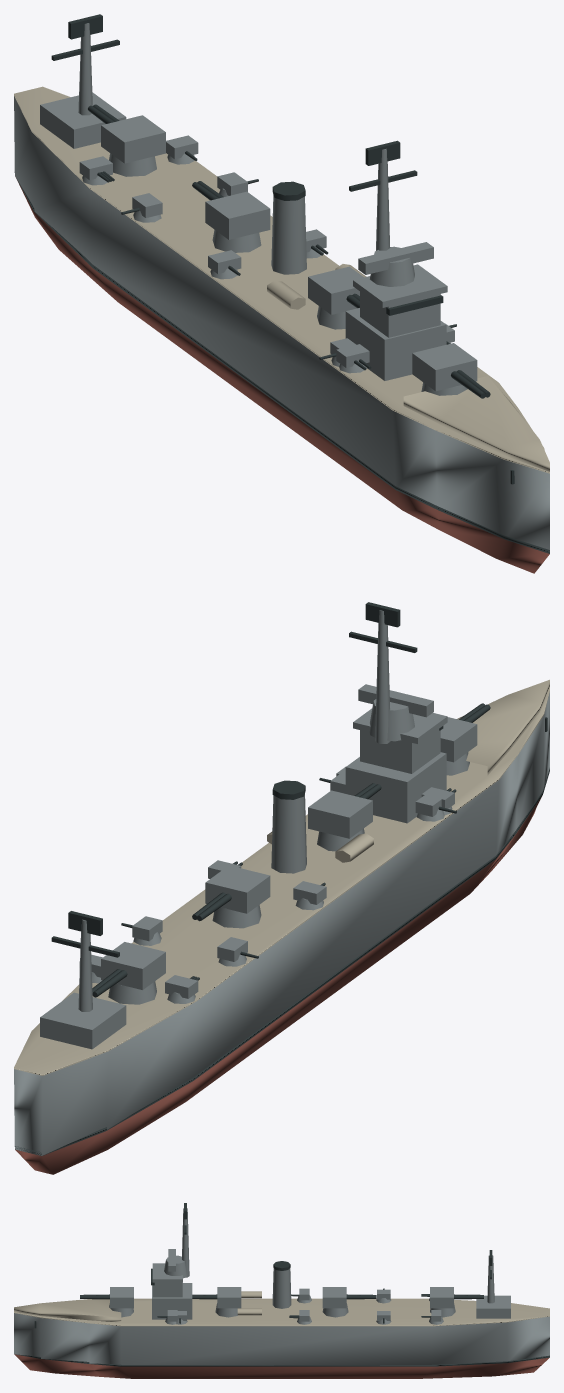
Rendered from admiral-hipper.glb.
The picture shows the model from 3 angles, top to bottom: view 1: azimuth 30°, elevation 25°; view 2: azimuth 150°, elevation 25°; view 3: azimuth 270°, elevation 25°; orthographic projection. The views are drawn at different scales.
Visible parts, largest first — view 1: Freeboard, Deck, UnderwaterHull, Forecastle, Bridge-Foundation, Funnel-0-Body, AftDeckhouse, Main-Casing-2, Main-Casing-3, Waterline, Main-Casing-0, Bridge-Command (+8 smaller); view 2: Freeboard, Deck, UnderwaterHull, Bridge-Foundation, Forecastle, AftDeckhouse, Funnel-0-Body, Main-Casing-1, Bridge-Command, Main-Casing-2, Waterline, Main-Casing-3 (+8 smaller); view 3: Freeboard, Deck, UnderwaterHull, Forecastle, Waterline, Bridge-Foundation, AftDeckhouse, Funnel-0-Body, Main-Casing-1, Main-Casing-2, Main-Casing-0, Main-Casing-3 (+5 smaller).
Part boxes in pixels (left/top/right/bottom): Freeboard: left=14, top=96, right=549, bottom=551; Deck: left=14, top=86, right=549, bottom=473; UnderwaterHull: left=15, top=176, right=549, bottom=573; Forecastle: left=403, top=376, right=549, bottom=471; Bridge-Foundation: left=345, top=308, right=446, bottom=380; Funnel-0-Body: left=271, top=195, right=306, bottom=274; AftDeckhouse: left=40, top=92, right=126, bottom=148; Main-Casing-2: left=205, top=191, right=270, bottom=239; Main-Casing-3: left=101, top=115, right=165, bottom=163; Waterline: left=14, top=172, right=549, bottom=553; Main-Casing-0: left=412, top=343, right=477, bottom=391; Bridge-Command: left=360, top=291, right=440, bottom=337; Freeboard: left=14, top=691, right=549, bottom=1155; Deck: left=14, top=689, right=549, bottom=1075; UnderwaterHull: left=15, top=796, right=541, bottom=1174; Bridge-Foundation: left=345, top=752, right=446, bottom=823; Forecastle: left=457, top=679, right=549, bottom=775; AftDeckhouse: left=40, top=992, right=126, bottom=1049; Funnel-0-Body: left=271, top=794, right=306, bottom=873; Main-Casing-1: left=308, top=790, right=372, bottom=838; Bridge-Command: left=360, top=729, right=440, bottom=773; Main-Casing-2: left=205, top=865, right=270, bottom=913; Waterline: left=15, top=768, right=549, bottom=1155; Main-Casing-3: left=101, top=942, right=165, bottom=989; Freeboard: left=14, top=1313, right=549, bottom=1364; Deck: left=14, top=1298, right=549, bottom=1326; UnderwaterHull: left=14, top=1354, right=549, bottom=1378; Forecastle: left=14, top=1299, right=121, bottom=1322; Waterline: left=15, top=1354, right=549, bottom=1366; Bridge-Foundation: left=152, top=1283, right=192, bottom=1319; AftDeckhouse: left=476, top=1295, right=510, bottom=1318; Funnel-0-Body: left=272, top=1268, right=291, bottom=1308; Main-Casing-1: left=217, top=1287, right=241, bottom=1308; Main-Casing-2: left=322, top=1287, right=346, bottom=1308; Main-Casing-0: left=110, top=1287, right=133, bottom=1308; Main-Casing-3: left=430, top=1287, right=453, bottom=1308.
Size of the model in its own units: 29.44 by 65.48 by 195.
